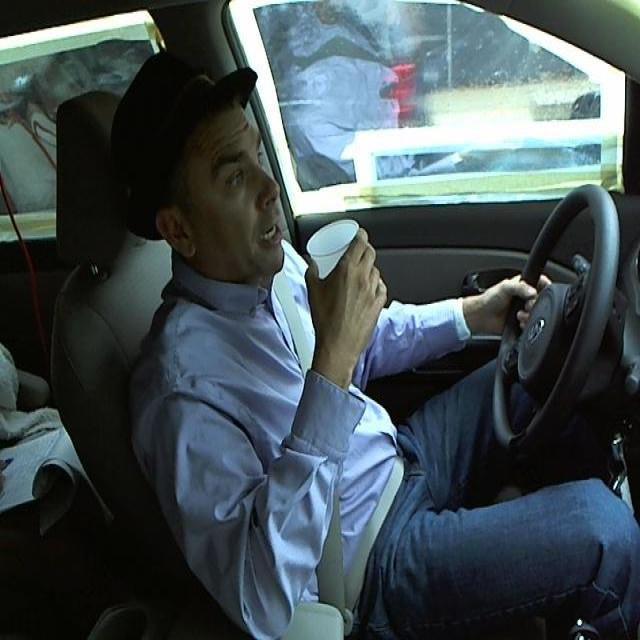Seatbelt: (309, 217, 366, 315)
